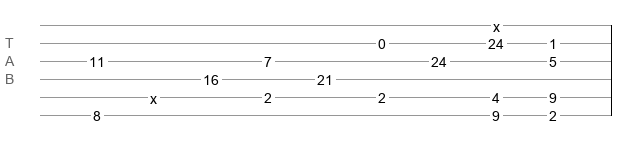0: (378, 36, 386, 46)
1: (549, 36, 557, 46)
11: (89, 54, 105, 64)
16: (203, 72, 219, 82)
2: (264, 90, 272, 100), (378, 90, 386, 100), (549, 108, 557, 118)
21: (317, 72, 333, 82)
24: (431, 54, 447, 64), (488, 36, 504, 46)
4: (492, 90, 500, 100)
5: (549, 54, 557, 64)
7: (264, 54, 272, 64)
8: (93, 108, 101, 118)
9: (492, 108, 500, 118), (549, 90, 557, 100)
x: (150, 91, 157, 99), (493, 19, 500, 27)
